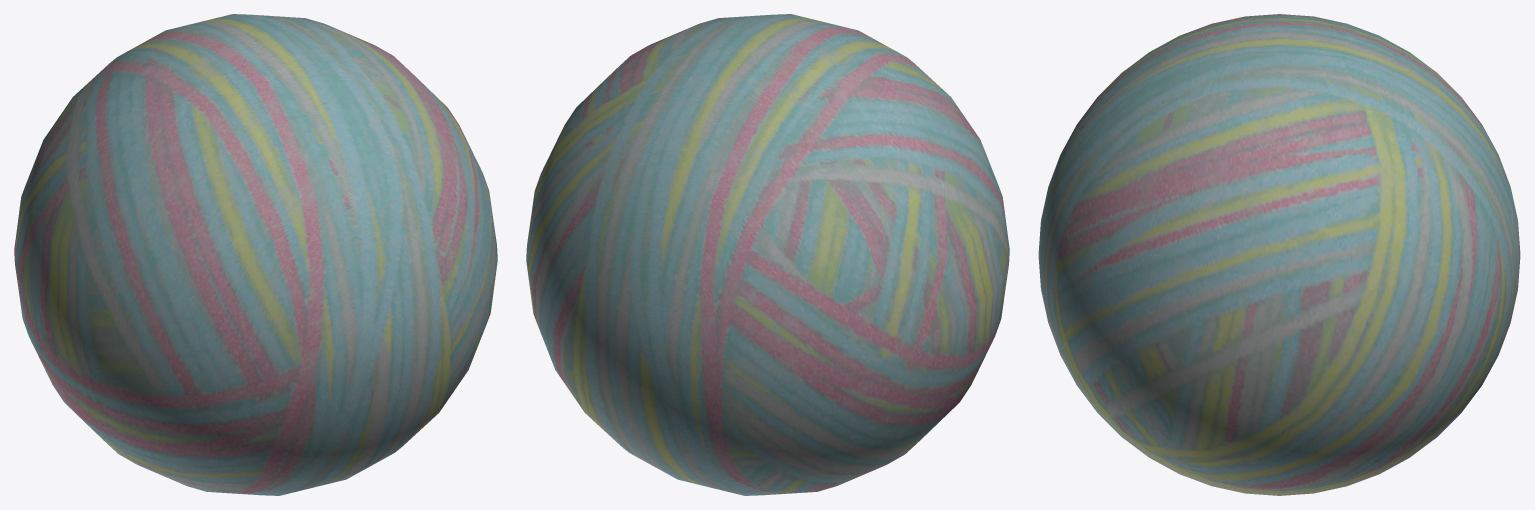
The model's file is pi_ball03_01.gltf.
3 views of the same model, side by side, from view 1: azimuth 30°, elevation 25°; view 2: azimuth 150°, elevation 25°; view 3: azimuth 270°, elevation 25° (orthographic).
Parts seen in each view (by area): view 1: pi_ball03_01_mesh_shape:pi_ball03_01_main; view 2: pi_ball03_01_mesh_shape:pi_ball03_01_main; view 3: pi_ball03_01_mesh_shape:pi_ball03_01_main.
Boxes of the visible parts, x1,y1,x2,y2 form: pi_ball03_01_mesh_shape:pi_ball03_01_main: (14, 14, 497, 495); pi_ball03_01_mesh_shape:pi_ball03_01_main: (526, 14, 1009, 495); pi_ball03_01_mesh_shape:pi_ball03_01_main: (1038, 14, 1520, 495).
Size of the model in its own units: 0.18 by 0.1782 by 0.18.
Materials: 1 (1 with a texture image).
